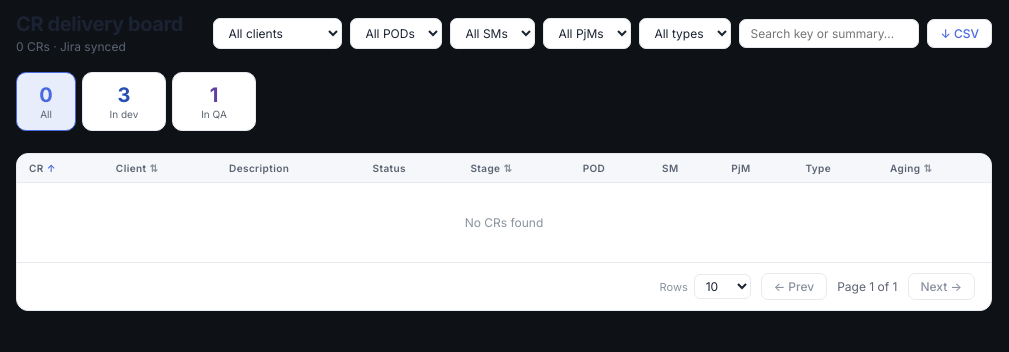
CSV export button › button shows Exporting… and is disabled while in flight
Click the button "↓ CSV".
click(960, 33)  # box top-left (927, 18), bottom-right (992, 48)
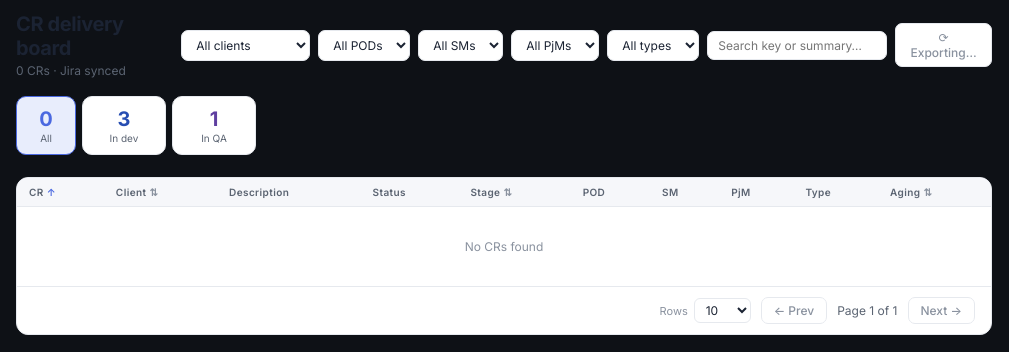
Result: the button "⟳ Exporting…" is disabled at top-left (895, 23), bottom-right (992, 67)
